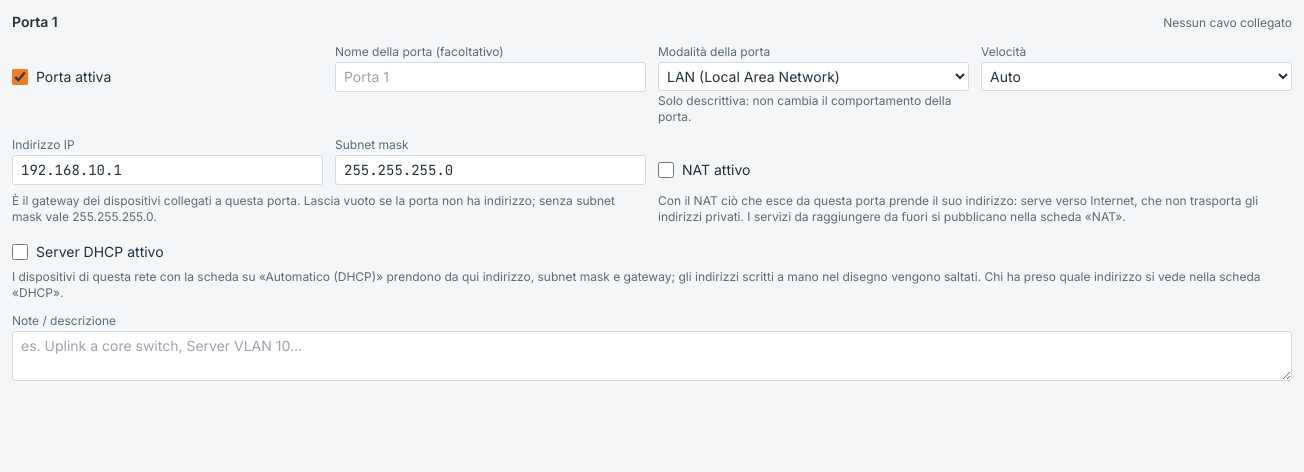
Test case: PortEditor — the DHCP server of a port › a range typed is kept trimmed; the tick off takes the server away
Click the checkbox labelled "Server DHCP attivo" at (20, 252), box [12, 244, 28, 260]
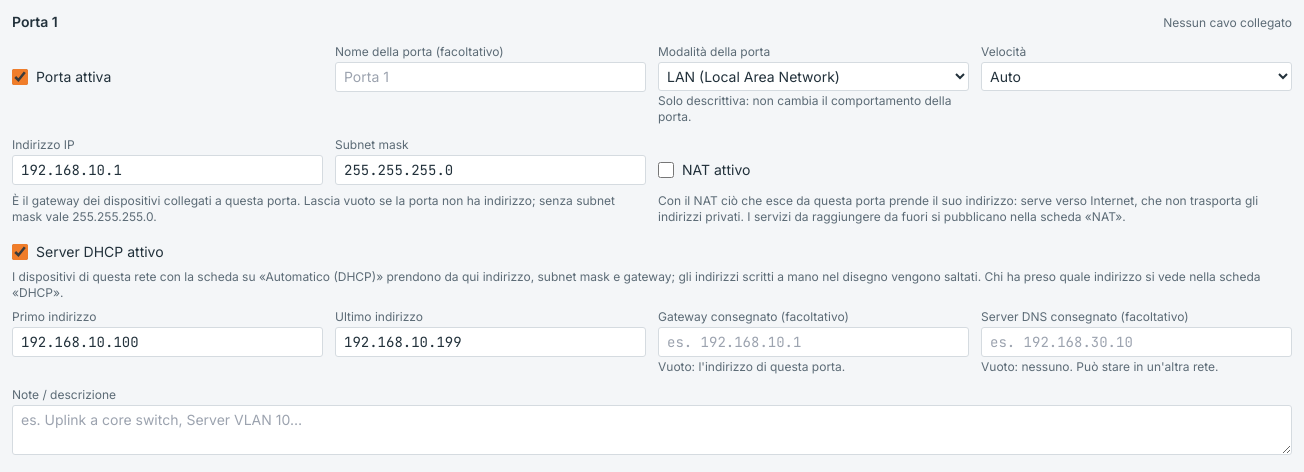
Replace the text in the field labelled "Primo indirizzo" with " 192.168.10.50 " at (168, 342), box [12, 327, 323, 357]
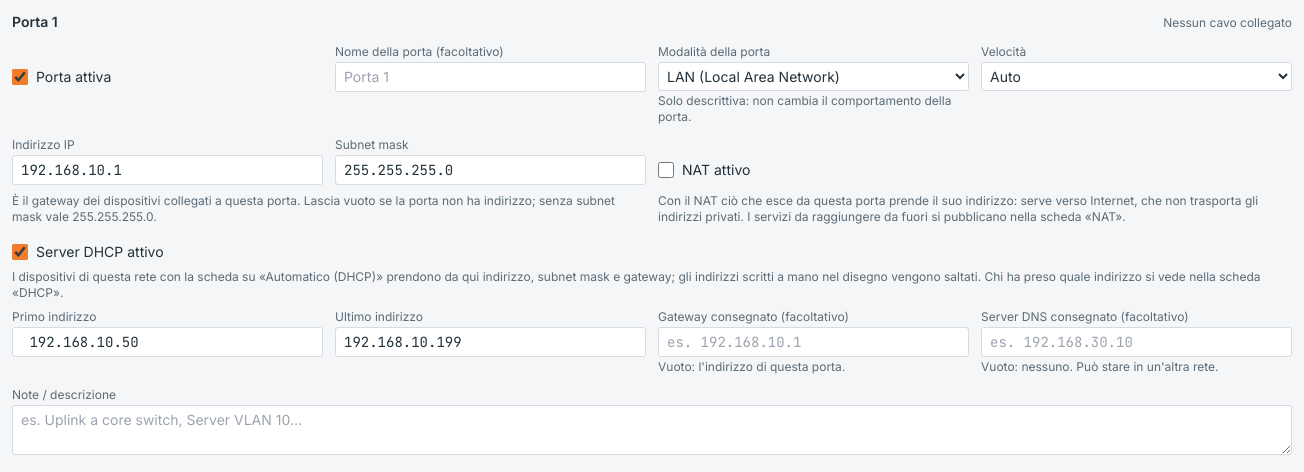
Replace the text in the field labelled "Ultimo indirizzo" with "192.168.10.59" at (490, 342), box [335, 327, 646, 357]
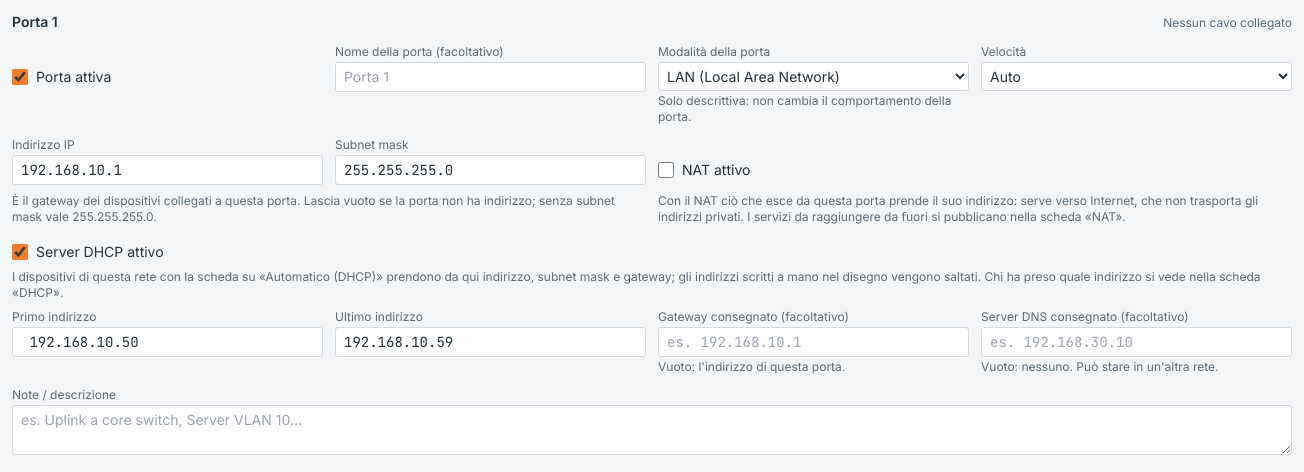
Type "192.168.10.254" into the field labelled "Gateway consegnato (facoltativo)" at (814, 342), box [658, 327, 969, 357]
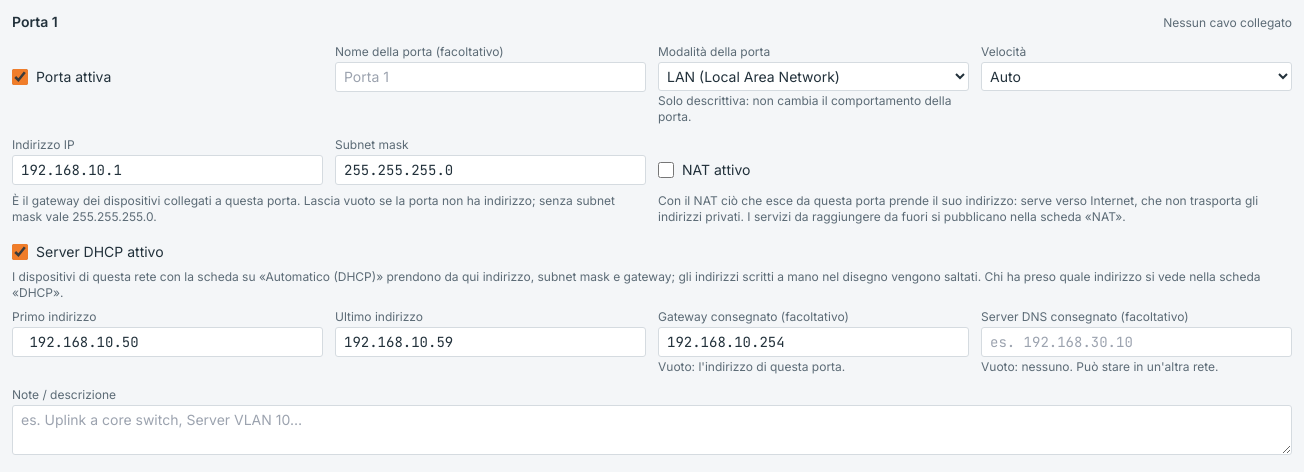
Click the checkbox labelled "Server DHCP attivo" at (20, 252), box [12, 244, 28, 260]
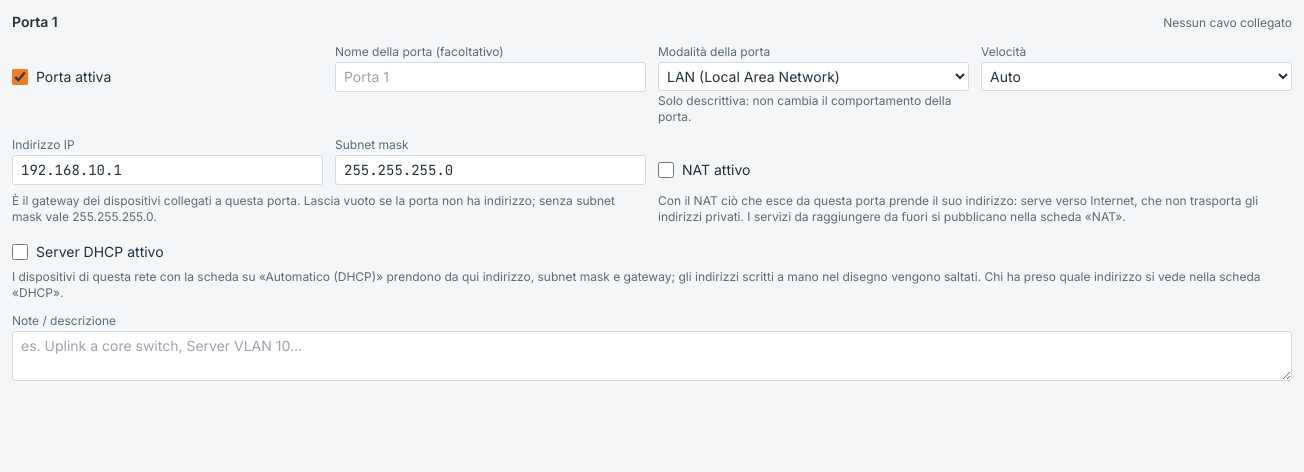
Click the checkbox labelled "Server DHCP attivo" at (20, 252), box [12, 244, 28, 260]
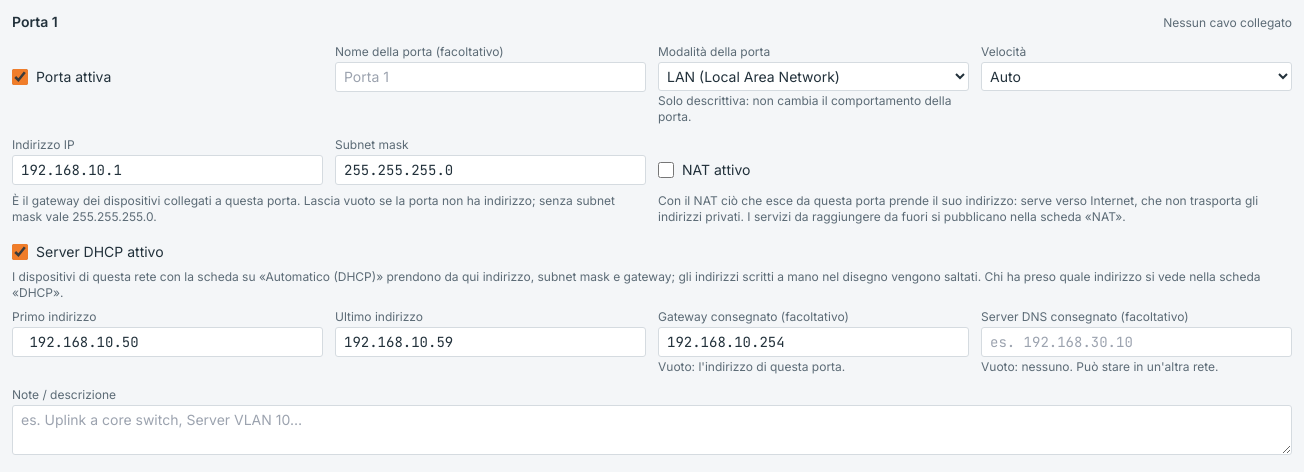
Expected: the field labelled "Primo indirizzo" holds " 192.168.10.50 ", [12, 327, 323, 357]
